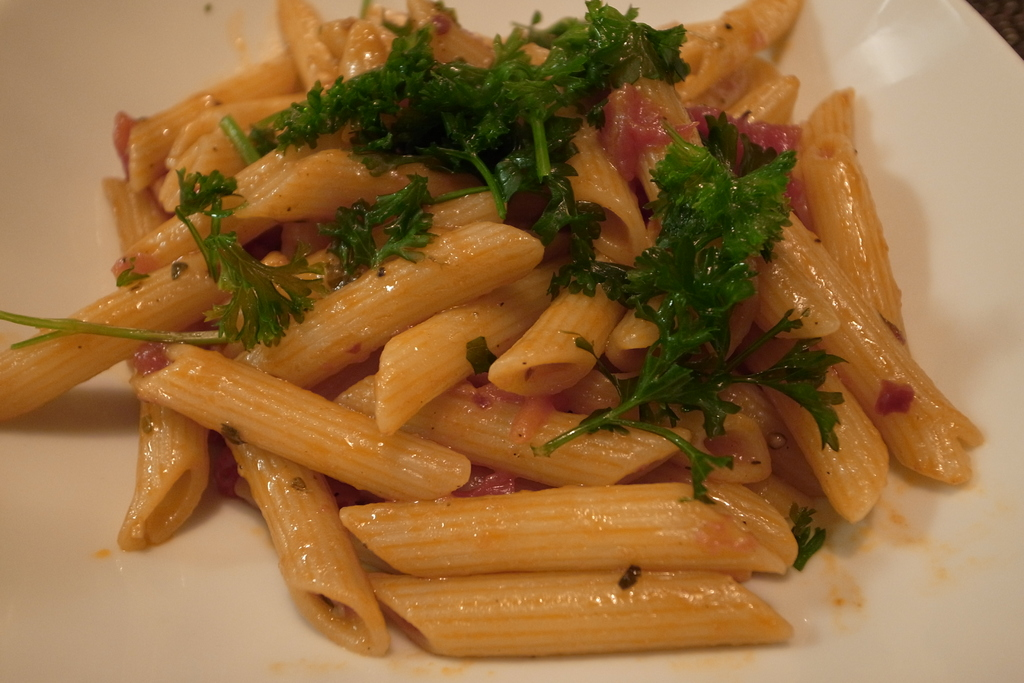pasta: (0, 0, 983, 657)
